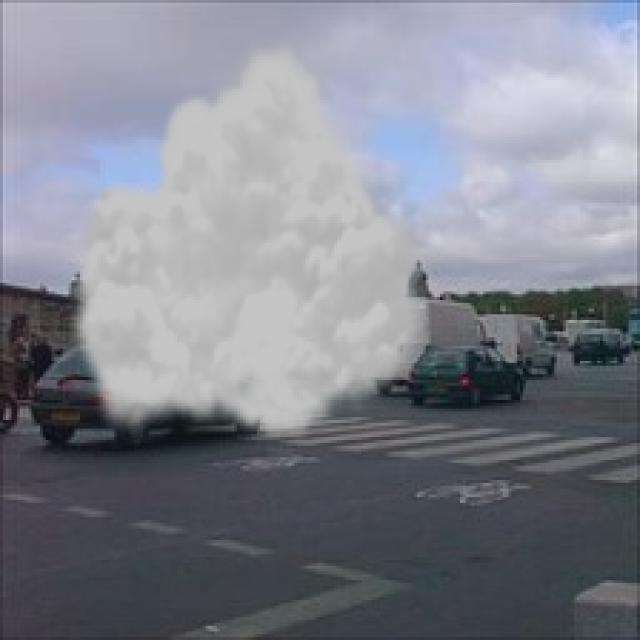smoke: (66, 34, 437, 443)
